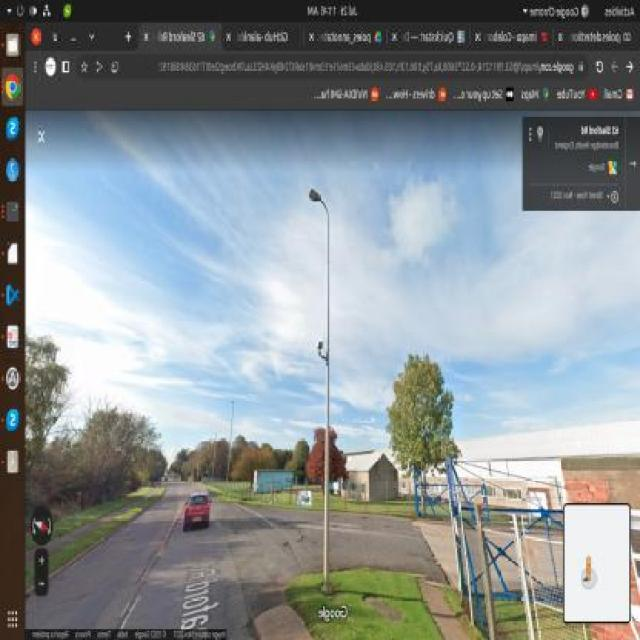pole: (304, 188, 338, 588)
